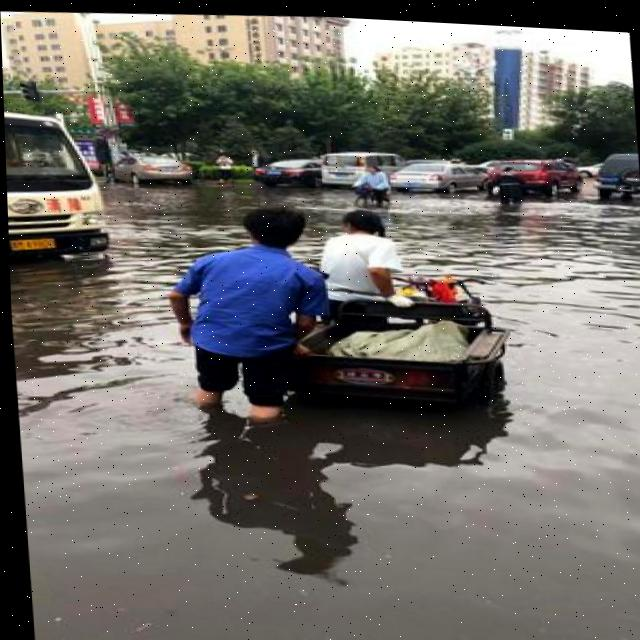civilian: (157, 166, 342, 435), (311, 192, 405, 308)
